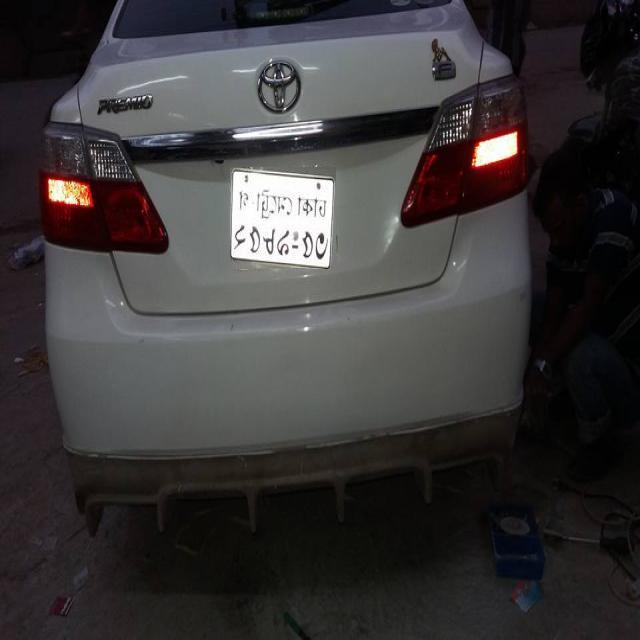numberplate: (230, 167, 336, 269)
